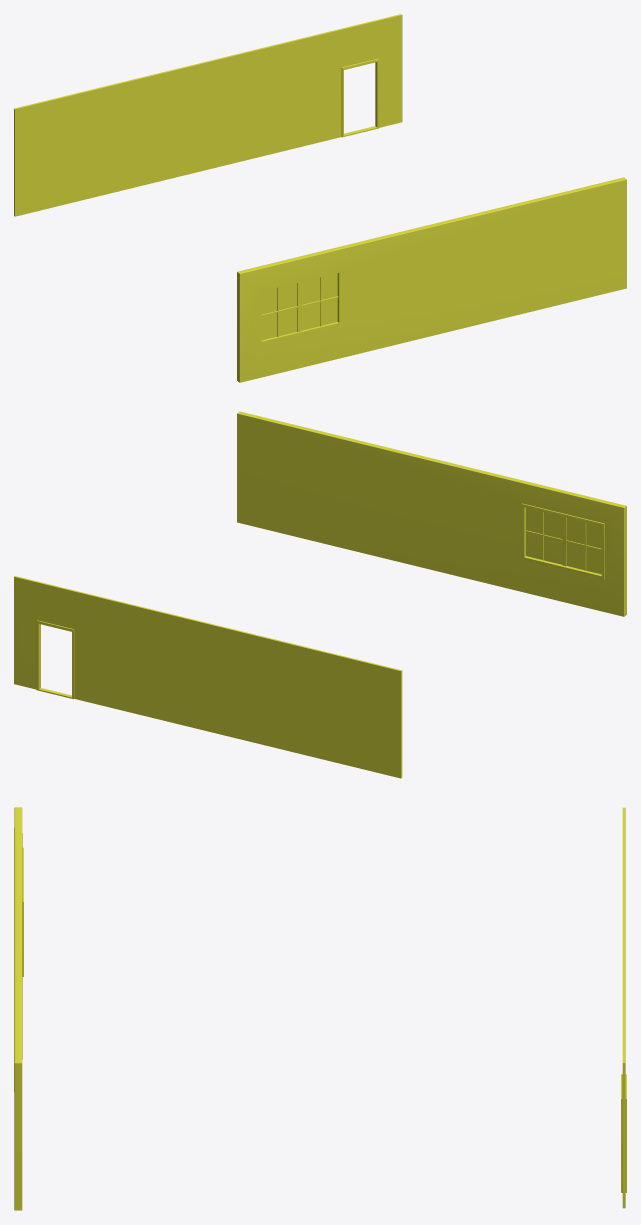
Rendered from HouseParty_SpecialWalls.fbx.
3 views of the same model, one above another, from view 1: azimuth 30°, elevation 25°; view 2: azimuth 150°, elevation 25°; view 3: azimuth 270°, elevation 25° (orthographic). The views are drawn at different scales.
Visible parts, largest first — view 1: Door_Wall, Window_Wall, Window_Window, Window_Frame; view 2: Door_Wall, Window_Wall, Window_Window, Window_Frame; view 3: Window_Wall, Door_Wall.
Boxes of the visible parts, <box> form: Door_Wall: <box>14,14,402,216</box>; Window_Wall: <box>237,177,626,382</box>; Window_Window: <box>261,273,337,340</box>; Window_Frame: <box>261,277,338,336</box>; Door_Wall: <box>14,576,402,778</box>; Window_Wall: <box>237,411,626,616</box>; Window_Window: <box>526,507,601,574</box>; Window_Frame: <box>525,512,601,570</box>; Window_Wall: <box>14,807,23,1210</box>; Door_Wall: <box>621,807,626,1208</box>.
Size of the model in its own units: 40.03 by 10.78 by 40.55.
